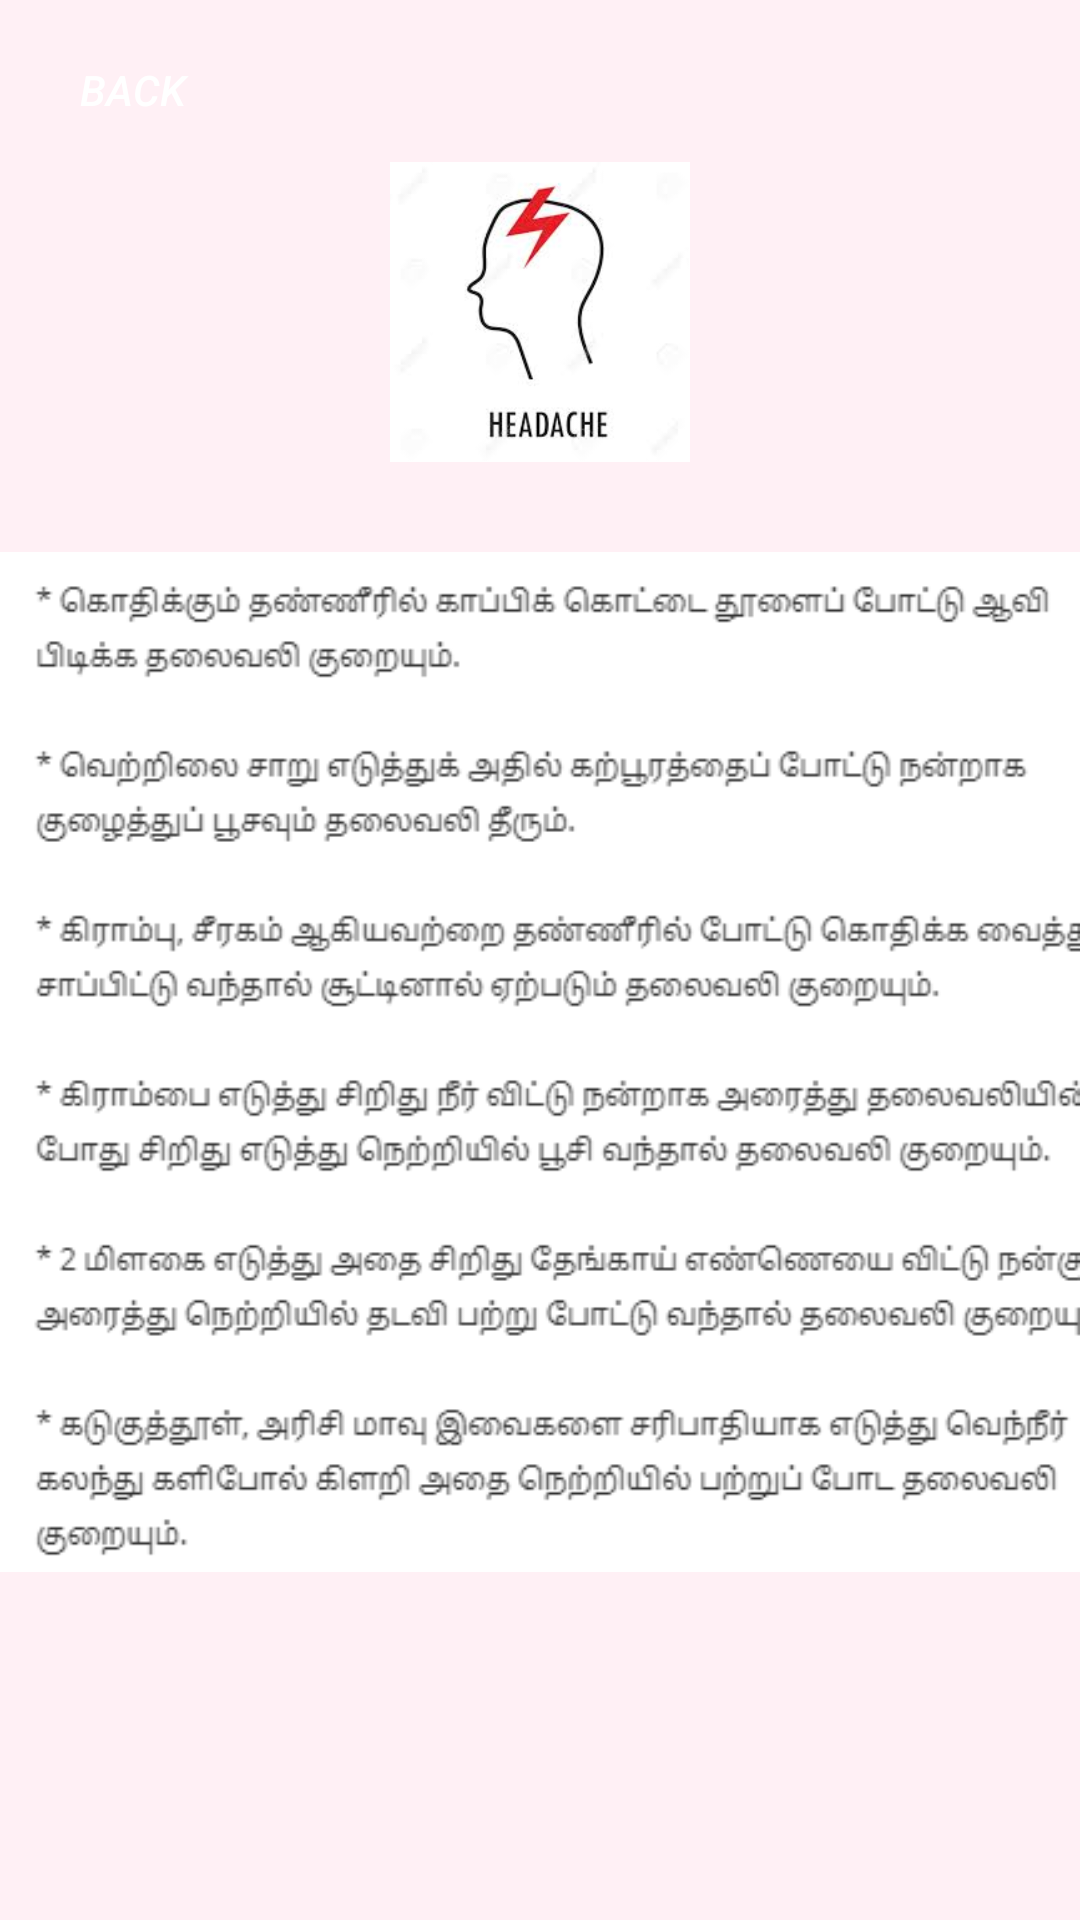

Named icons in this screenshot (1080w x 1920h) and their centers, (x,y):
head: (540,312)
